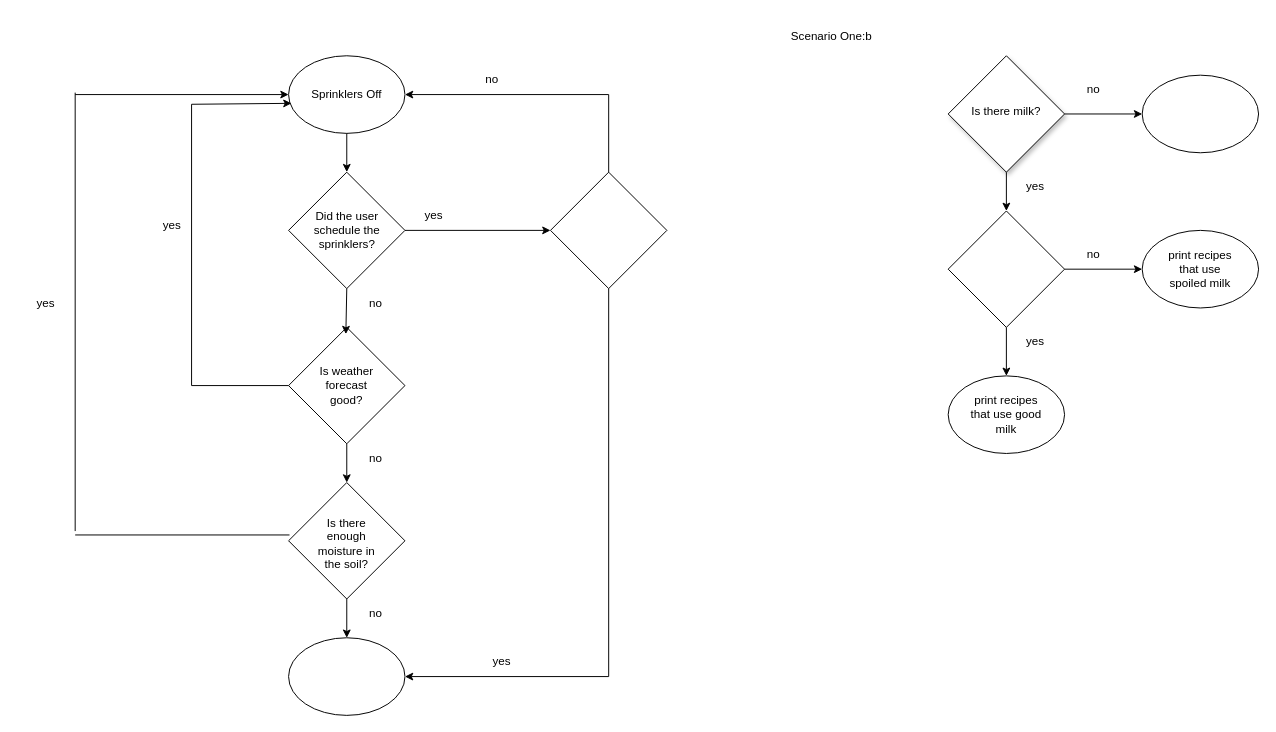
This 1276x732 diagram has some shape labels left out. The centre of each missing label's shape, as x and y in pixels:
Does the user want the sprinklers on?: [608,230]
Is milk okay?: [1006,268]
Order more milk: [1200,113]
Turn on Sprinklers: [346,676]
